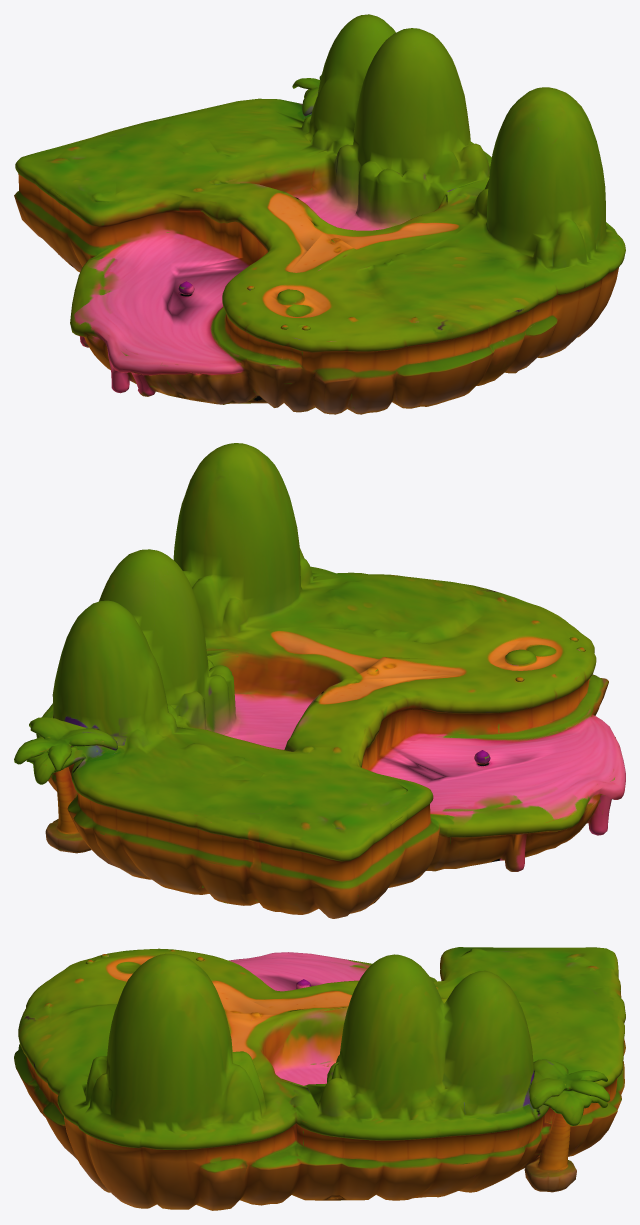
The model's file is LobbyLow.fbx.
The picture shows the model from 3 angles, top to bottom: view 1: azimuth 30°, elevation 25°; view 2: azimuth 150°, elevation 25°; view 3: azimuth 270°, elevation 25°; orthographic projection. The views are drawn at different scales.
Parts seen in each view (by area): view 1: LowPoly; view 2: LowPoly; view 3: LowPoly.
Part boxes in pixels (box(x1,y1,x2,y2)): LowPoly: box(14, 14, 625, 414); LowPoly: box(14, 443, 625, 918); LowPoly: box(14, 947, 625, 1210).
Size of the model in its own units: 1103 by 548 by 1221.
